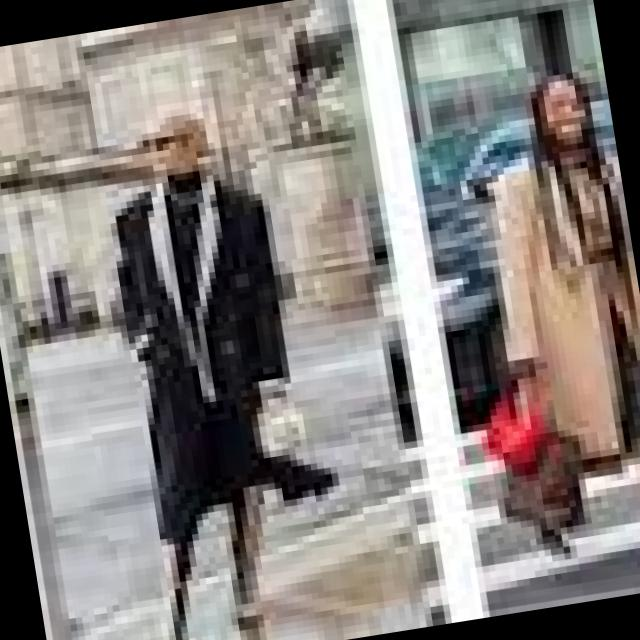Jacket: (81, 162, 341, 541), (471, 138, 640, 480)
